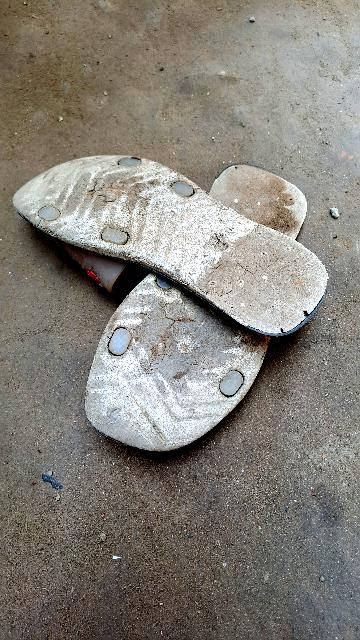sandal: (50, 137, 317, 476), (0, 104, 340, 347)
